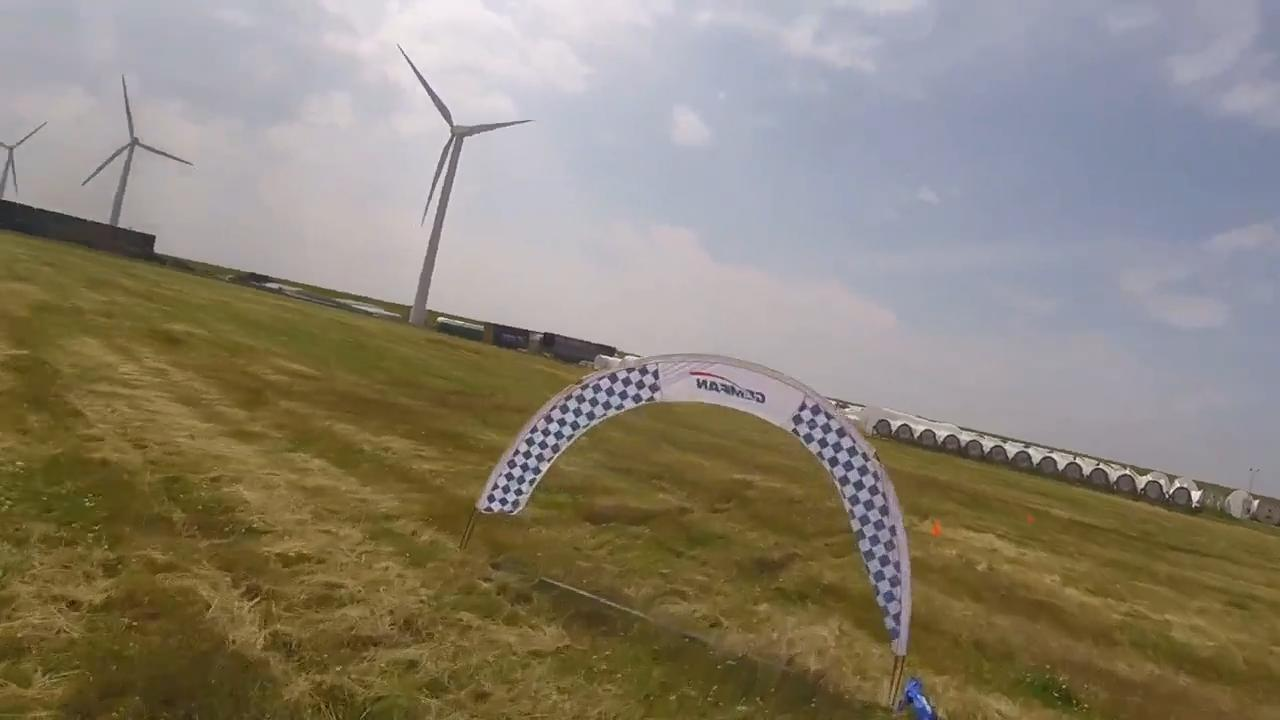gate: (477, 352, 912, 663)
